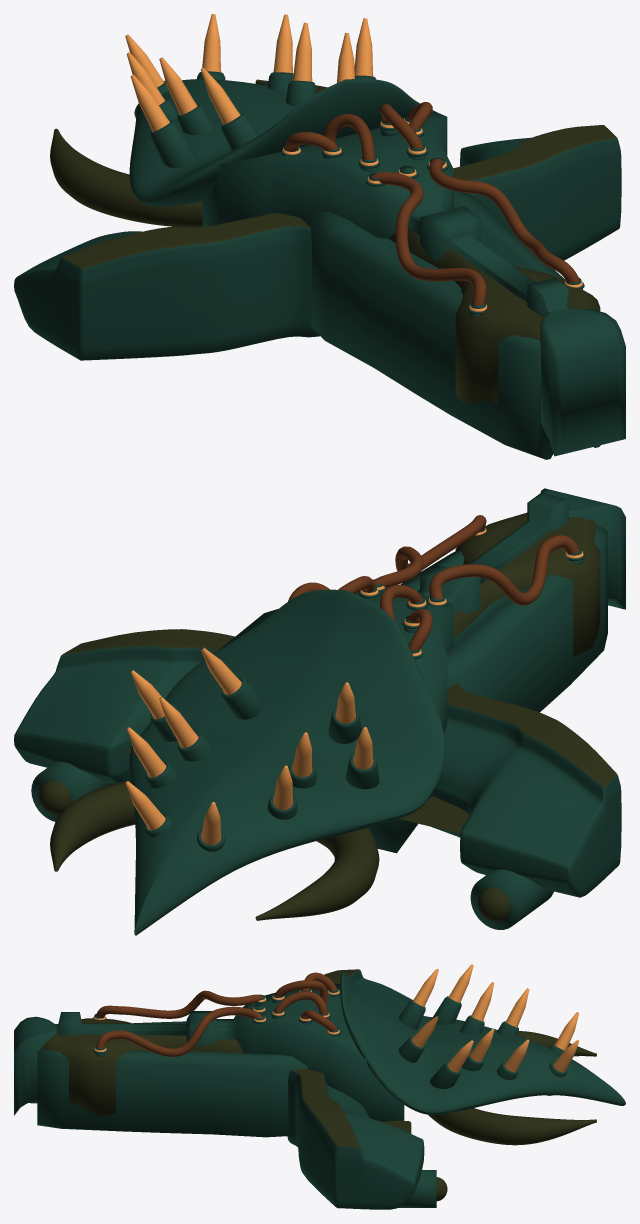
The model's file is SwiftSpace_Bug.fbx.
3 views of the same model, one above another, from view 1: azimuth 30°, elevation 25°; view 2: azimuth 150°, elevation 25°; view 3: azimuth 270°, elevation 25° (orthographic). The views are drawn at different scales.
Parts seen in each view (by area): view 1: Bug; view 2: Bug; view 3: Bug.
Part boxes in pixels (x1,y1,x2,y2): Bug: (14, 14, 625, 459); Bug: (14, 488, 625, 935); Bug: (14, 964, 625, 1209).
Bounding box in the file's own units: 202 × 81.12 × 286.
